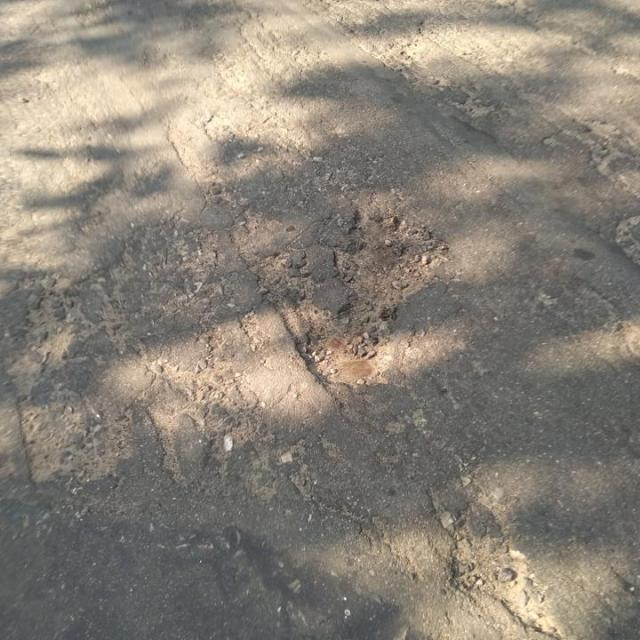Pothole: (444, 536, 577, 637), (330, 209, 456, 303), (300, 306, 403, 389)
